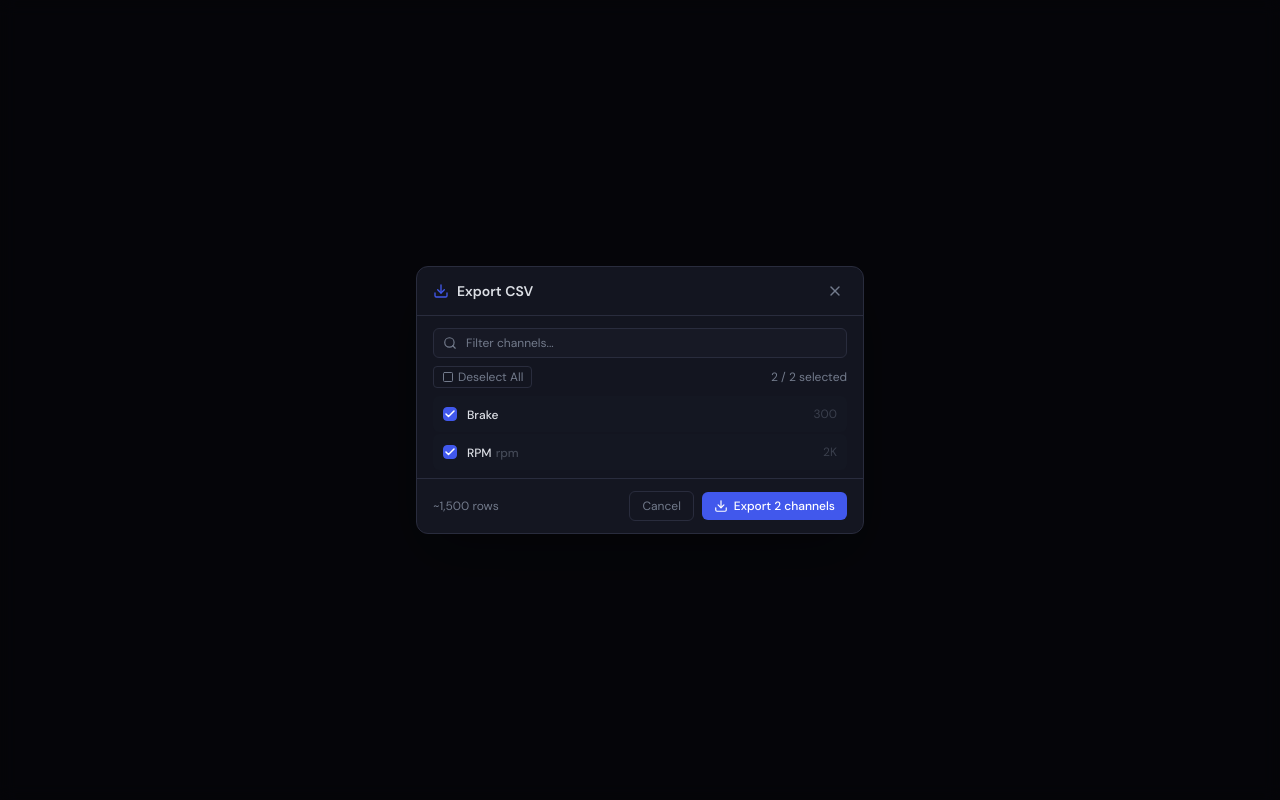
ExportDialog › toggles, filters and selects/deselects all
The image size is (1280, 800).
Click the button "Deselect All". click: click(483, 377)
box: [433, 366, 532, 388]
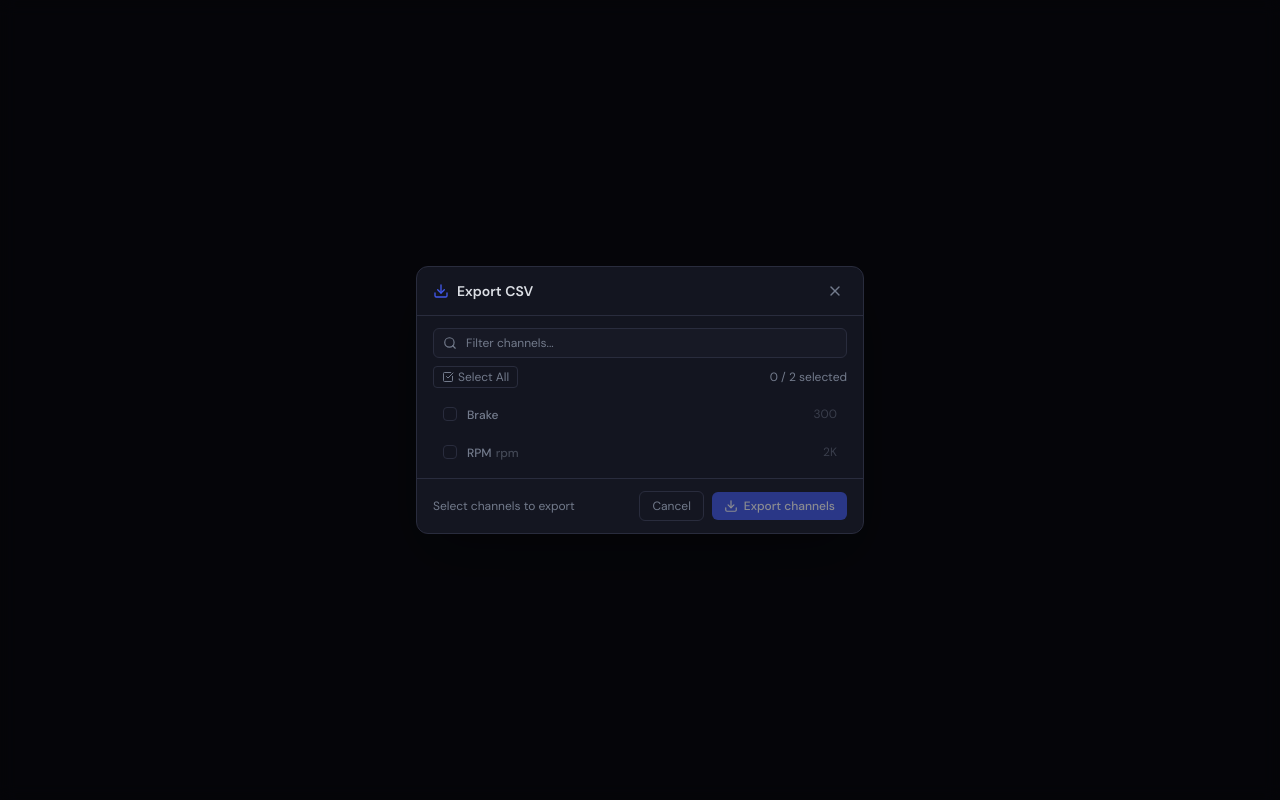
Now the text "0 / 2 selected" is shown, box [770, 369, 847, 385]
Now the text "Select channels to export" is shown, box [433, 498, 575, 514]
Now the button "Export channels" is disabled, box [712, 492, 847, 520]
Click the text "Brake". click: click(483, 415)
box: [467, 407, 498, 423]
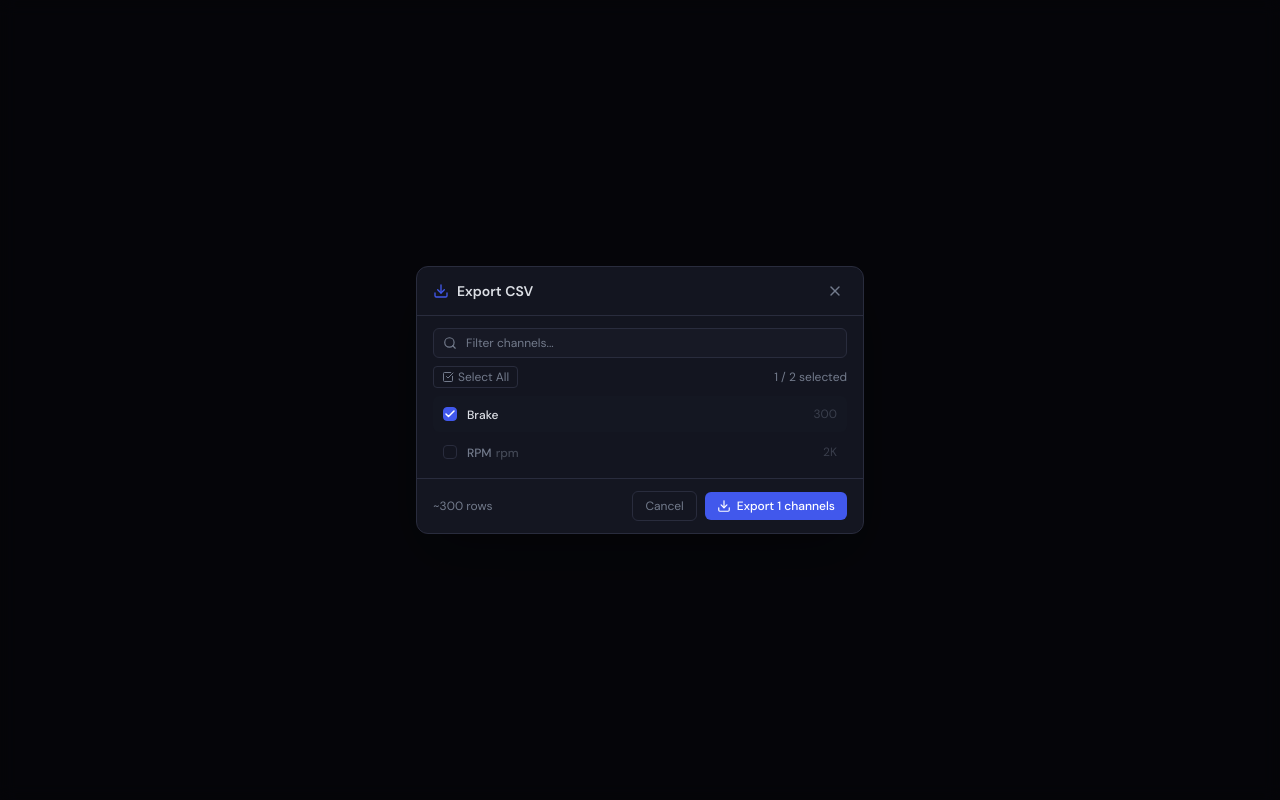
Expected: the text "1 / 2 selected" is shown, [774, 369, 847, 385]
Now the text "~300 rows" is shown, box [433, 498, 493, 514]
Type "zzz" into the field with placeholder "Filter channels...". click: (640, 343)
box: [433, 328, 847, 358]
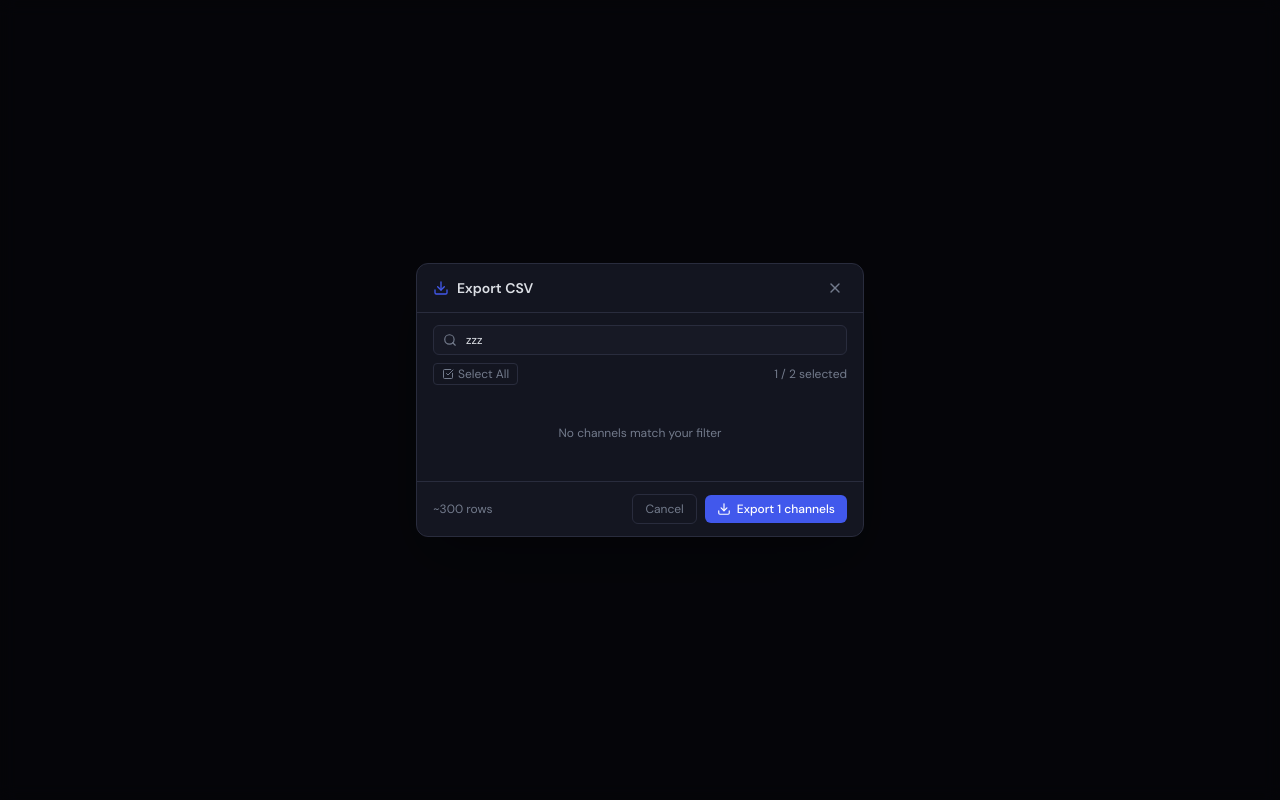
Now the text "No channels match your filter" is shown, box [558, 425, 721, 441]
Replace the text in the field with placeholder "Filter channels..." with "rp". click: (640, 340)
box: [433, 325, 847, 355]
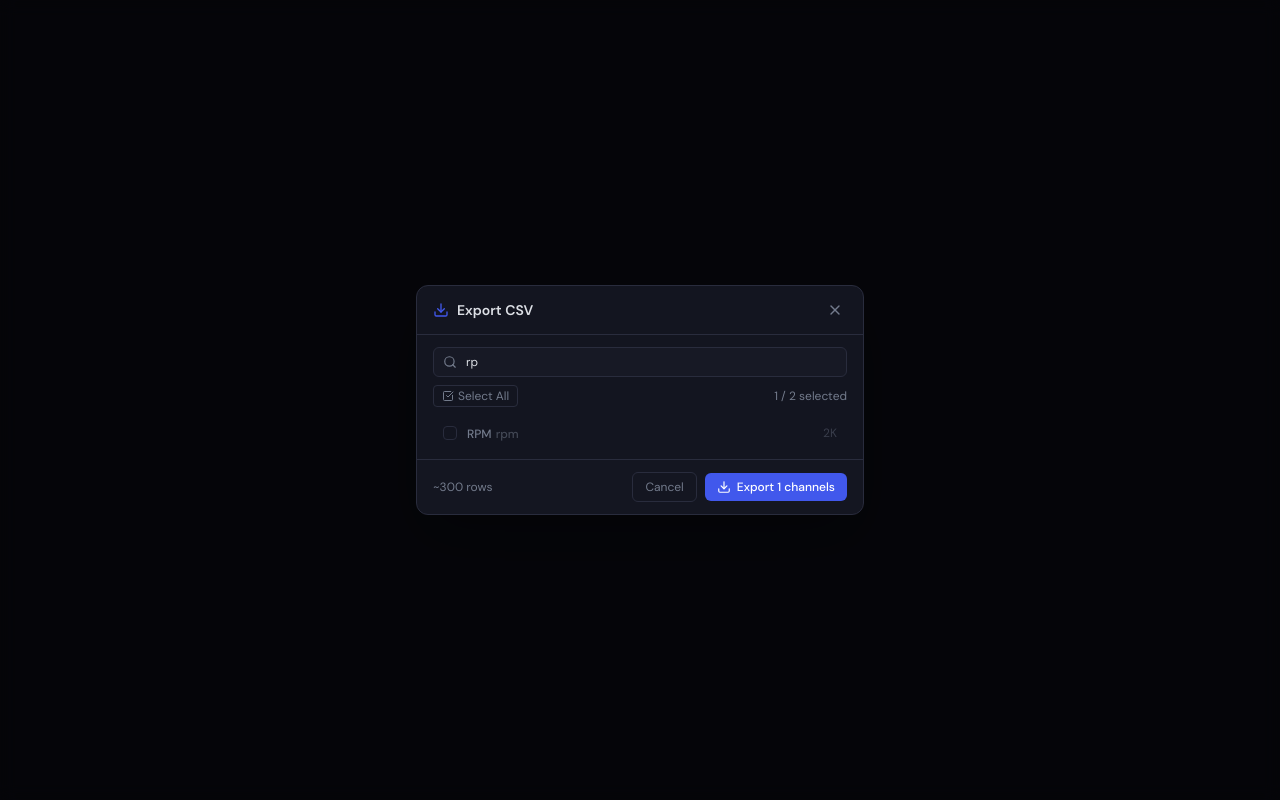
Click the button "Select All". click: click(476, 396)
box: [433, 385, 518, 407]
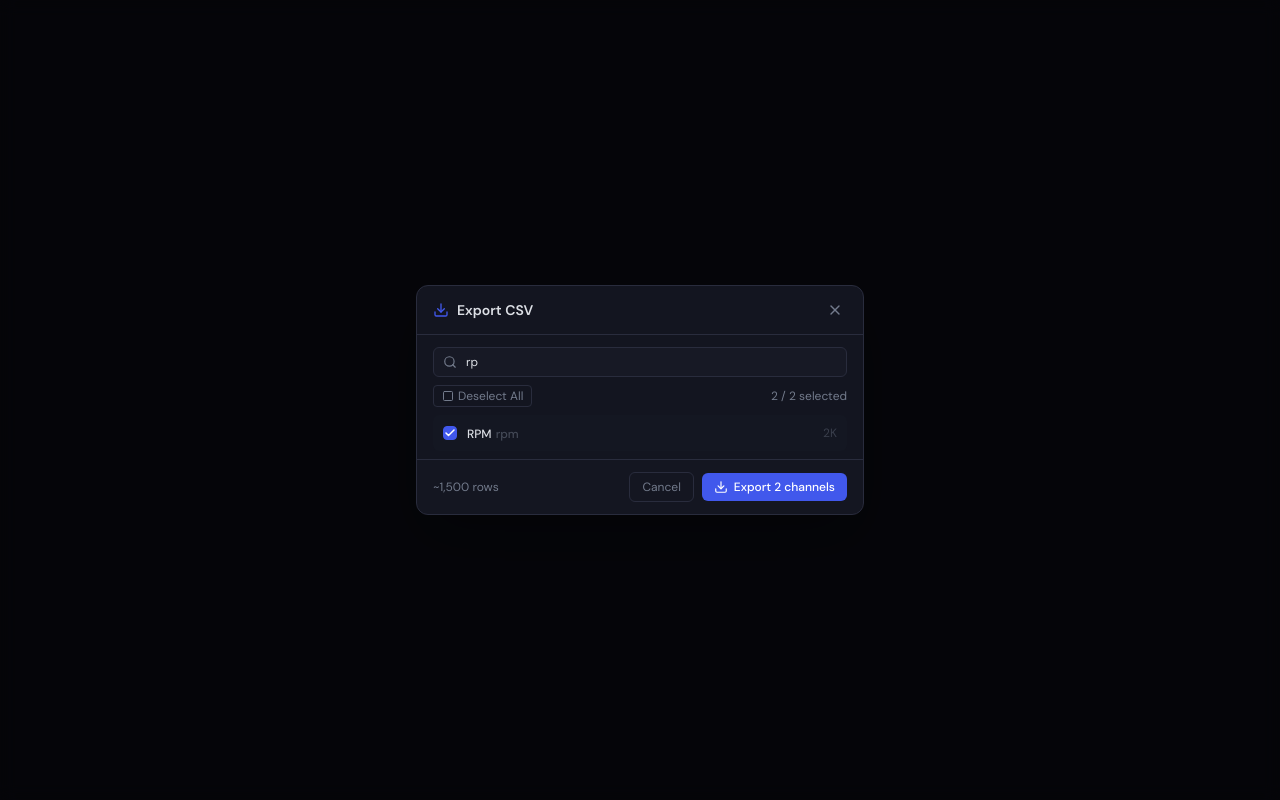
Now the text "2 / 2 selected" is shown, box [771, 388, 847, 404]
